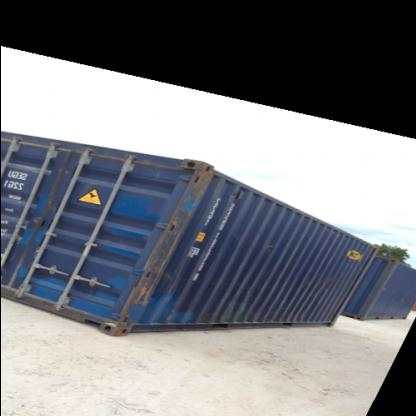Damage: (126, 211, 184, 310), (233, 264, 270, 310), (300, 272, 341, 294), (186, 173, 208, 202)
